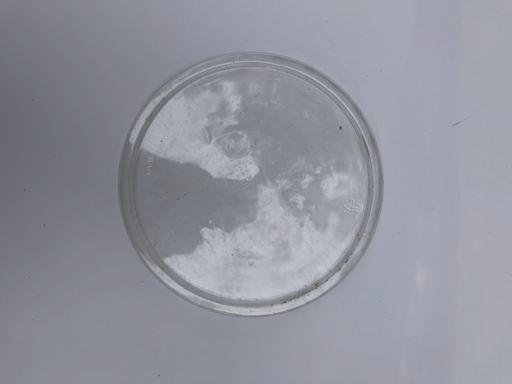plastic: (116, 50, 385, 320)
